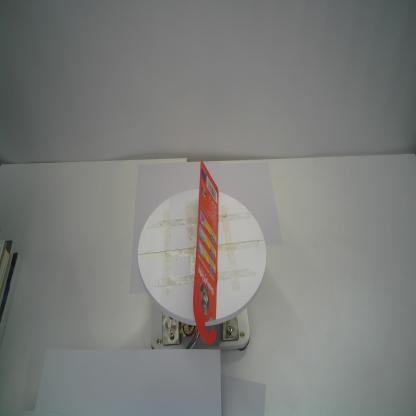Personal Hygiene: (192, 160, 218, 345)
